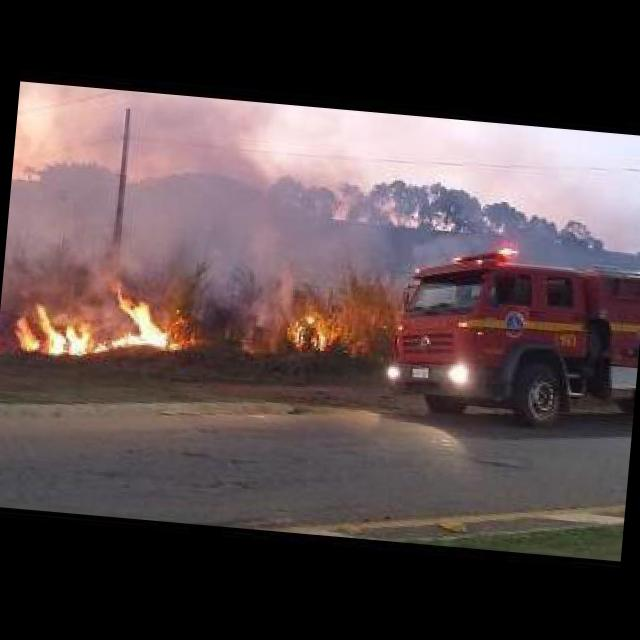Fire: (10, 264, 193, 380), (268, 285, 338, 360)
Smoke: (13, 71, 415, 293)
